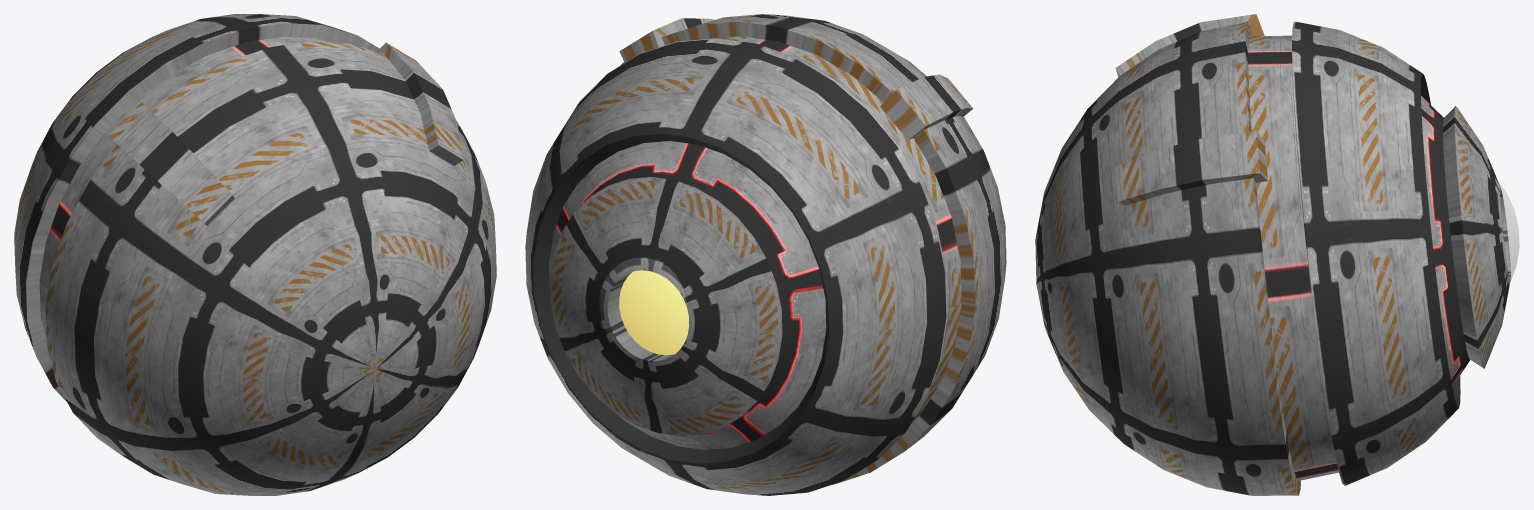
The model's file is little_robot_ball.glb.
The picture shows the model from 3 angles, left to right: view 1: azimuth 30°, elevation 25°; view 2: azimuth 150°, elevation 25°; view 3: azimuth 270°, elevation 25°; orthographic projection.
Visible parts, largest first — view 1: Sphere; view 2: Sphere; view 3: Sphere.
Part boxes in pixels (x1=…): Sphere: x1=14, y1=14, x2=496, y2=495; Sphere: x1=525, y1=14, x2=1006, y2=495; Sphere: x1=1035, y1=14, x2=1519, y2=495.
Size of the model in its own units: 0.2067 by 0.2061 by 0.2098.
4 materials, 2 textured.
